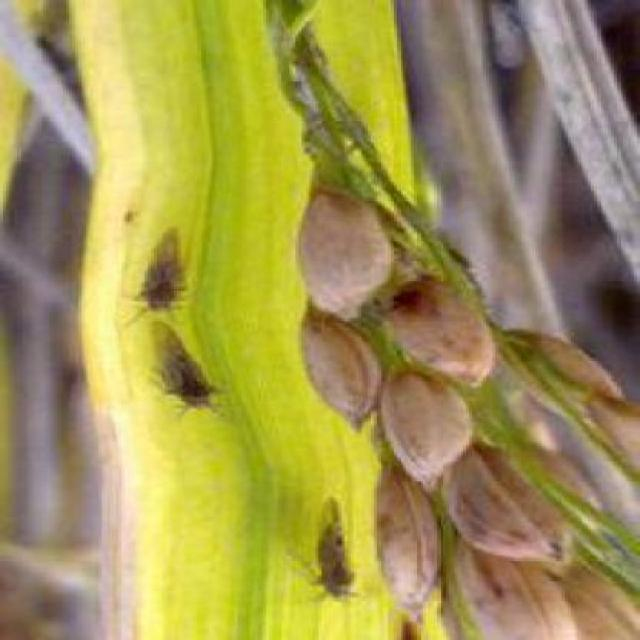brown-planthopper: (146, 318, 220, 414), (312, 492, 359, 606), (133, 219, 189, 313)
